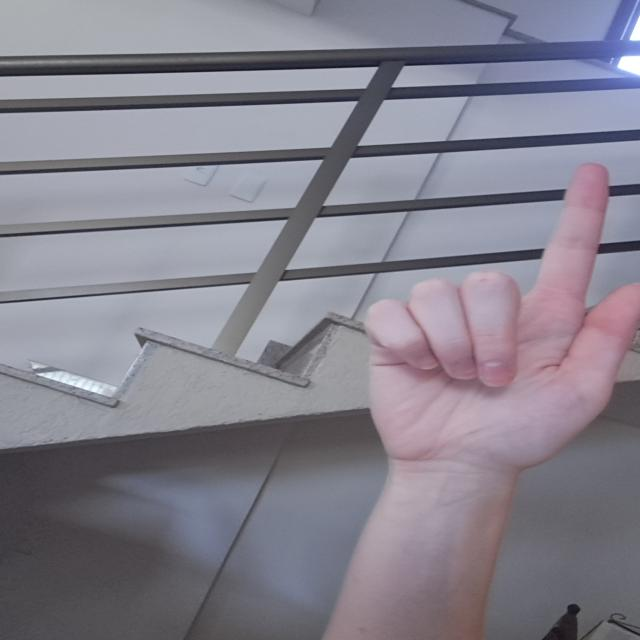G: (347, 154, 640, 478)
